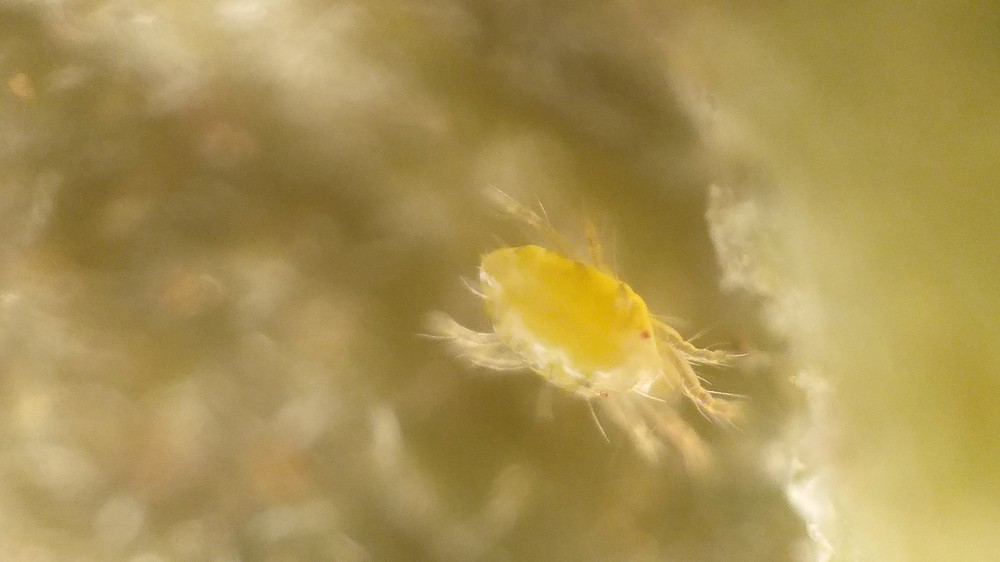Aracnido Rojo: (413, 193, 805, 496)
